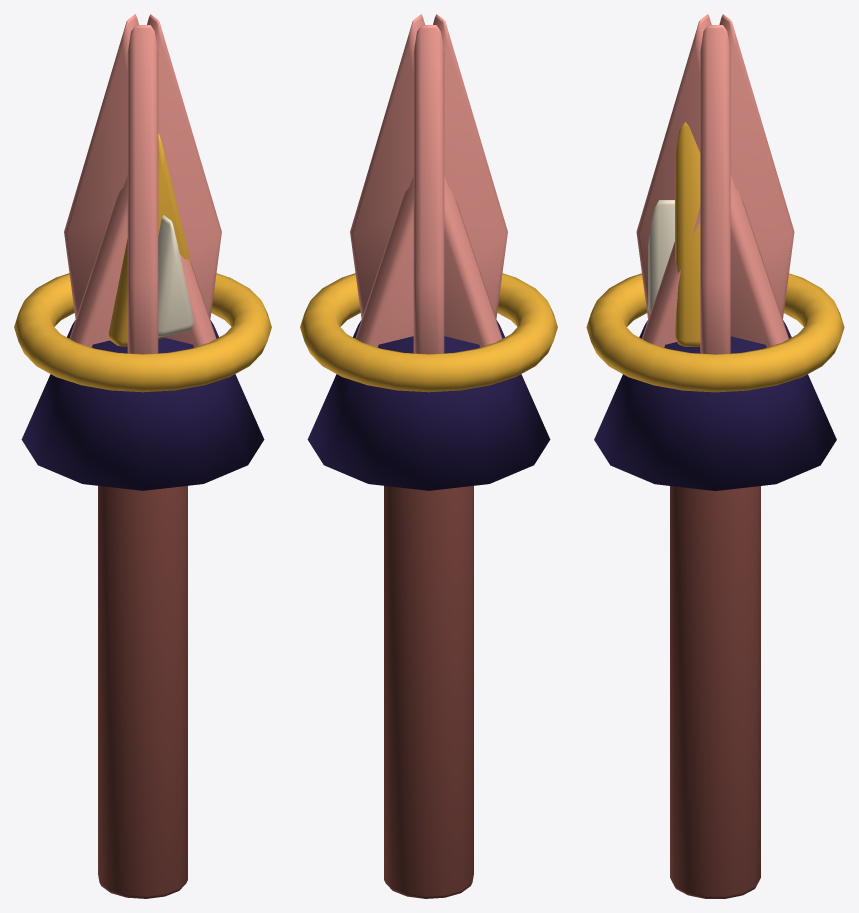
File: r060_dungeon_torch_family_torch_02.glb
3 renders of one model, left to right at view 1: azimuth 30°, elevation 25°; view 2: azimuth 150°, elevation 25°; view 3: azimuth 270°, elevation 25°, orthographic.
Visible parts, largest first — view 1: r060_dungeon_torch_family_torch_02.001; view 2: r060_dungeon_torch_family_torch_02.001; view 3: r060_dungeon_torch_family_torch_02.001.
Part boxes in pixels (<box>): r060_dungeon_torch_family_torch_02.001: <box>14,14,271,898</box>; r060_dungeon_torch_family_torch_02.001: <box>300,14,557,898</box>; r060_dungeon_torch_family_torch_02.001: <box>586,14,844,898</box>.
Size of the model in its own units: 1.02 by 3.76 by 1.02.
